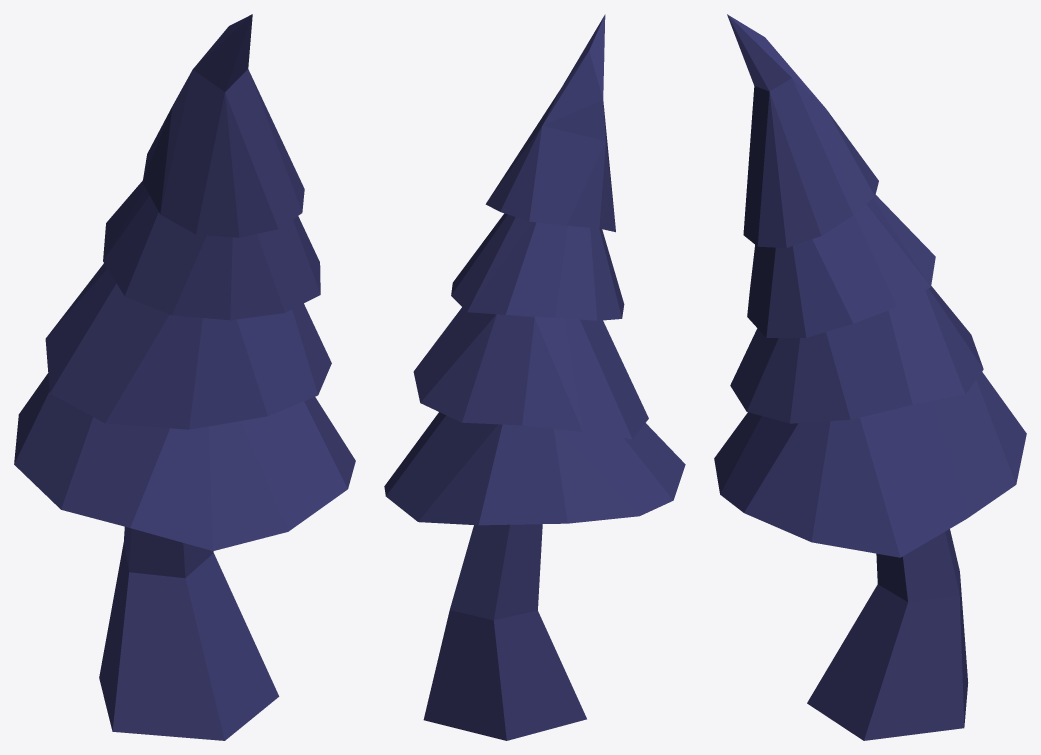
The model's file is TREE.fbx.
The picture shows the model from 3 angles, left to right: view 1: azimuth 30°, elevation 25°; view 2: azimuth 150°, elevation 25°; view 3: azimuth 270°, elevation 25°; orthographic projection. The views are drawn at different scales.
Visible parts, largest first — view 1: Tree_02_Tree_01_0.001; view 2: Tree_02_Tree_01_0.001; view 3: Tree_02_Tree_01_0.001.
Boxes of the visible parts, x1,y1,x2,y2 form: Tree_02_Tree_01_0.001: (14,14,355,740); Tree_02_Tree_01_0.001: (384,14,685,740); Tree_02_Tree_01_0.001: (714,14,1026,740).
Bounding box in the file's own units: 3214 × 7709 × 3204.
1 material, 1 textured.
